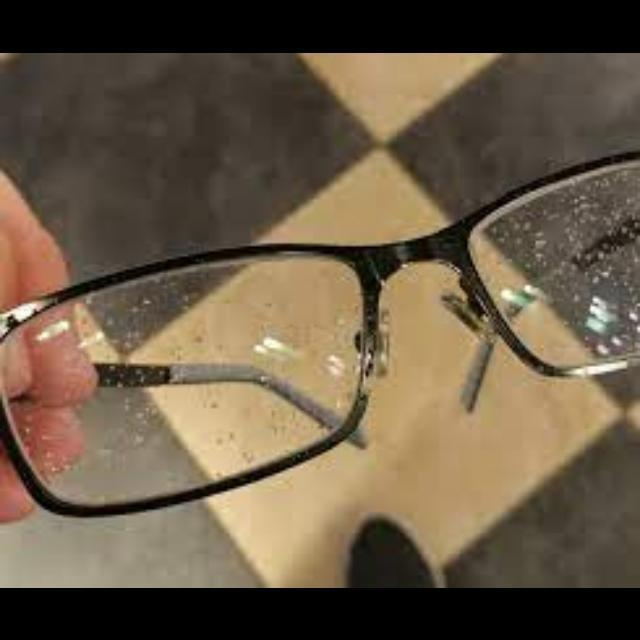glasses: (0, 152, 640, 518)
